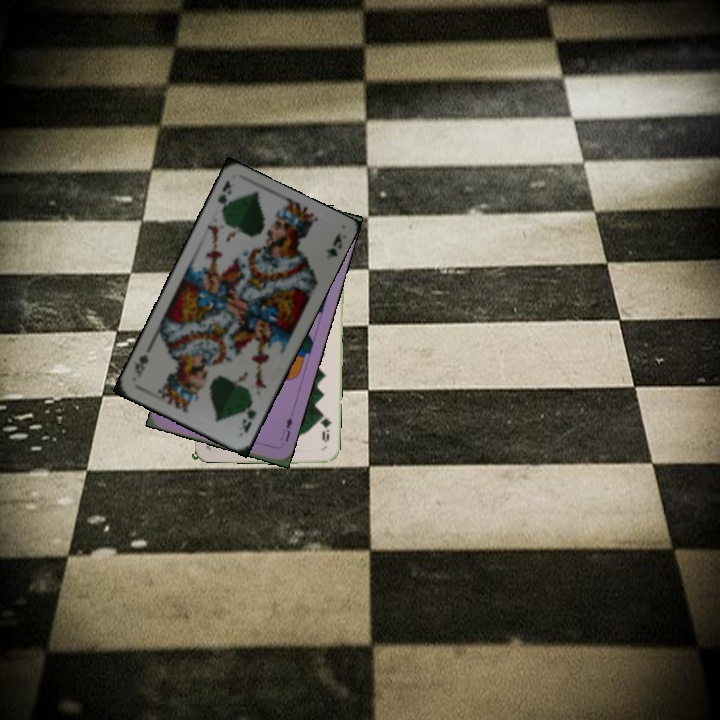EU: (276, 413, 295, 444)
G9: (317, 409, 334, 445)
GK: (213, 176, 234, 217), (238, 406, 259, 436)
